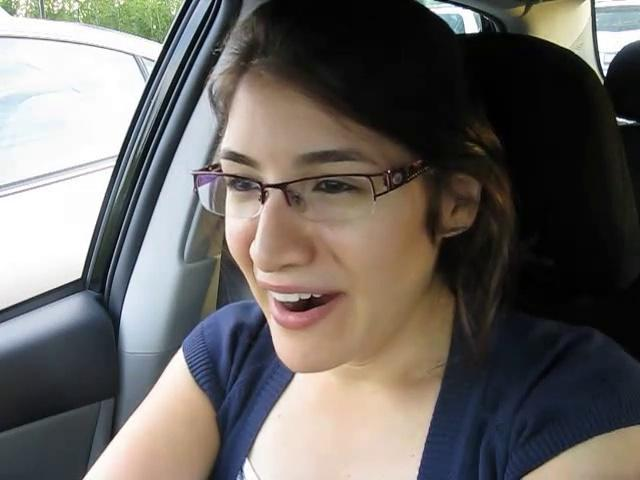close_eyeL: (211, 165, 273, 211)
close_eyeR: (291, 162, 389, 219)
yawn: (252, 268, 366, 337)
